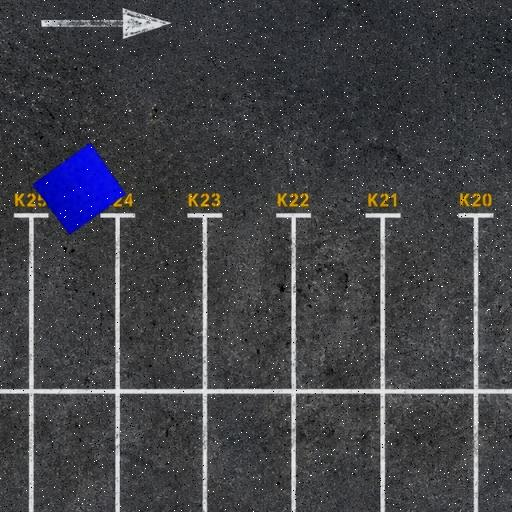BLUE_SQUARE: (32, 142, 126, 235)
